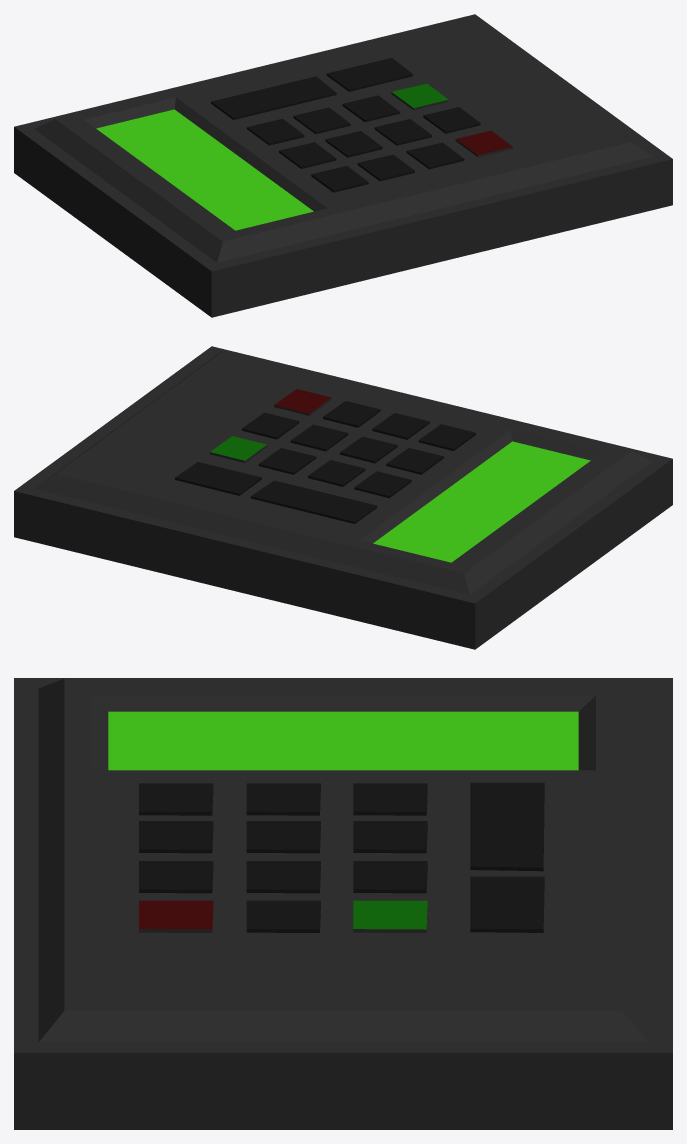
Rendered from Calculadora.fbx.
3 views of the same model, one above another, from view 1: azimuth 30°, elevation 25°; view 2: azimuth 150°, elevation 25°; view 3: azimuth 270°, elevation 25° (orthographic). The views are drawn at different scales.
Parts seen in each view (by area): view 1: Calculadora; view 2: Calculadora; view 3: Calculadora.
Boxes of the visible parts, bbox=[...] form: Calculadora: bbox=[14, 14, 672, 317]; Calculadora: bbox=[14, 346, 672, 649]; Calculadora: bbox=[14, 678, 672, 1129].
Bounding box in the file's own units: 0.1962 × 0.0247 × 0.1457.
